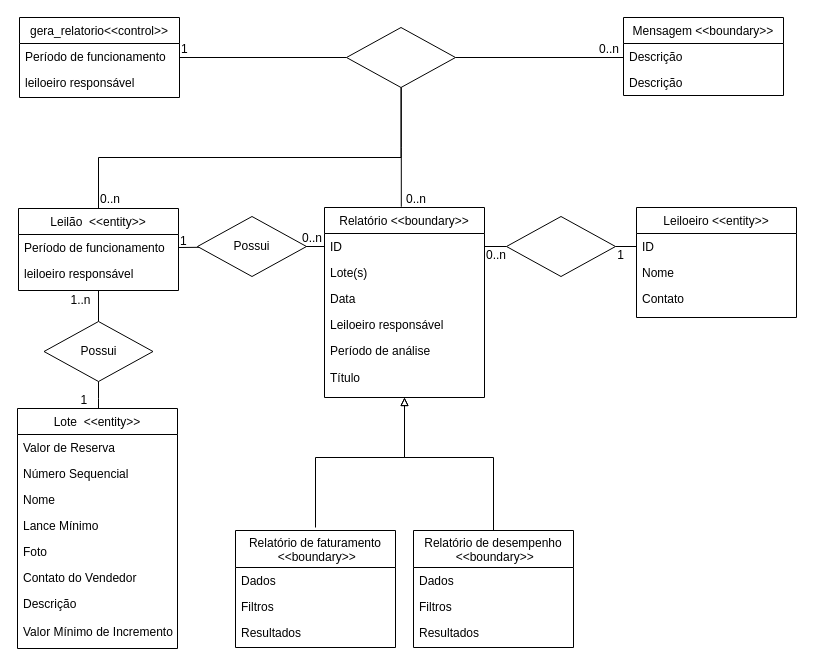
This 814x667 diagram has some shape labels left out. The box of each missing label's shape, as (x1, y1, x2, y2) in pixels:
Controla: (346, 26, 456, 88)
Gera: (506, 216, 616, 276)
